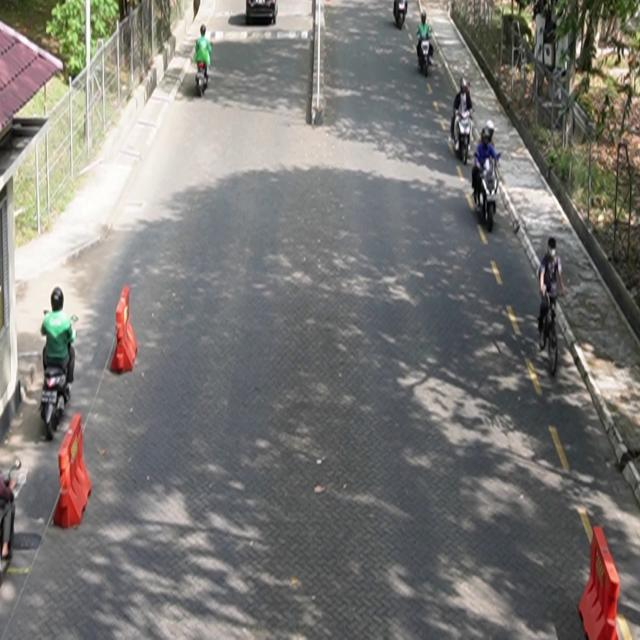car: (246, 1, 279, 26)
